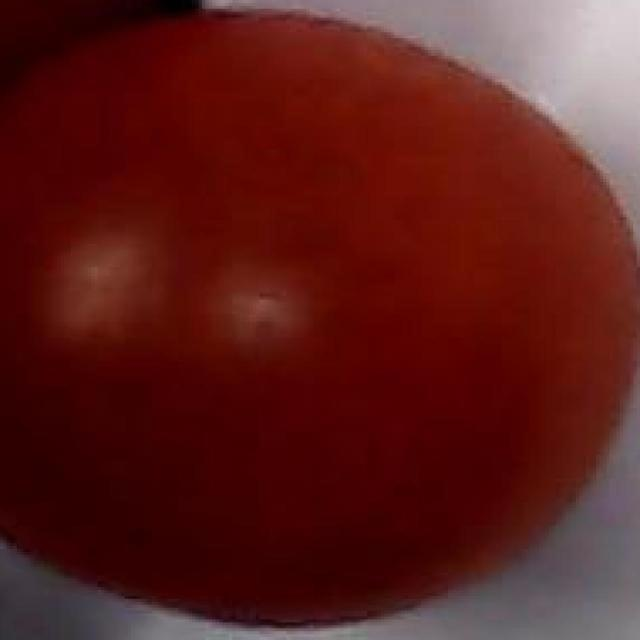Healthy Fruit: (2, 2, 427, 423)
